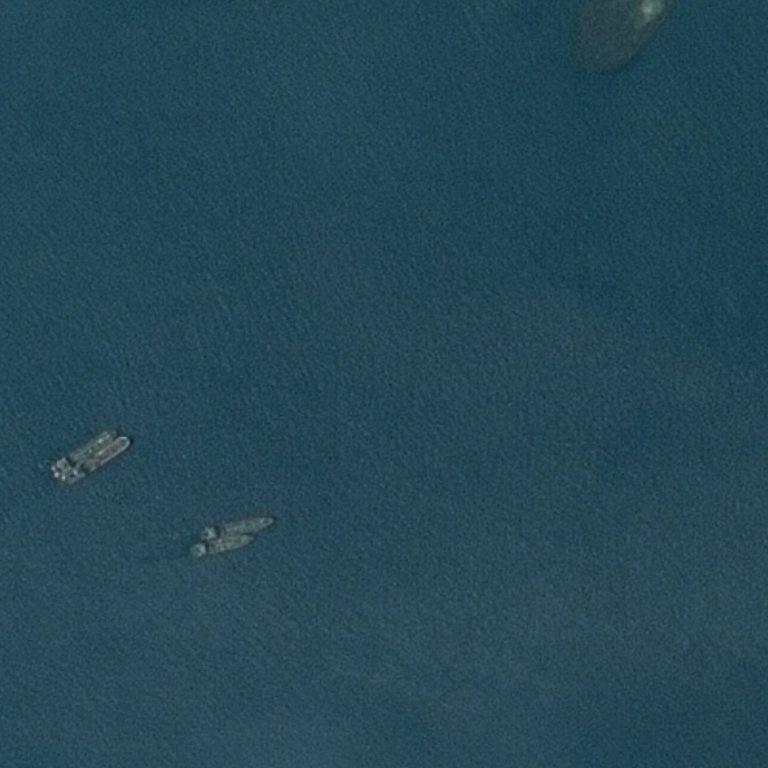ship: (0, 427, 40, 479), (52, 533, 57, 540), (269, 517, 276, 522), (230, 514, 231, 541), (113, 430, 117, 435), (49, 466, 54, 470), (55, 458, 59, 463), (204, 527, 207, 532)
